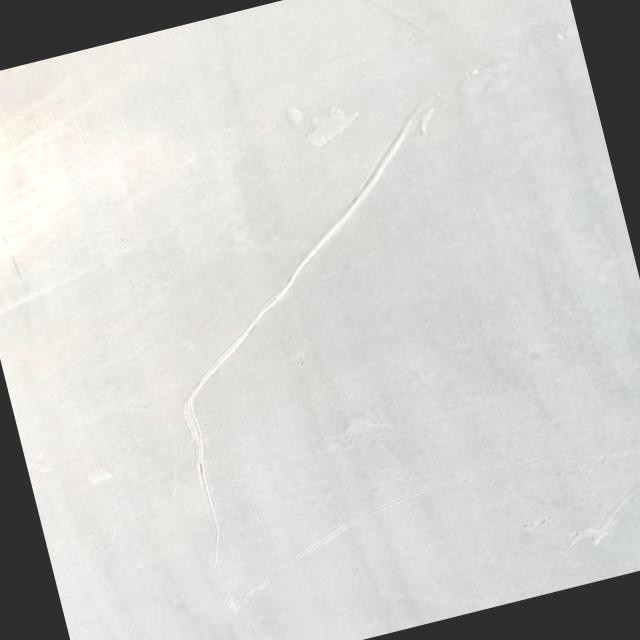scratch: (86, 76, 550, 594), (536, 448, 640, 572)
